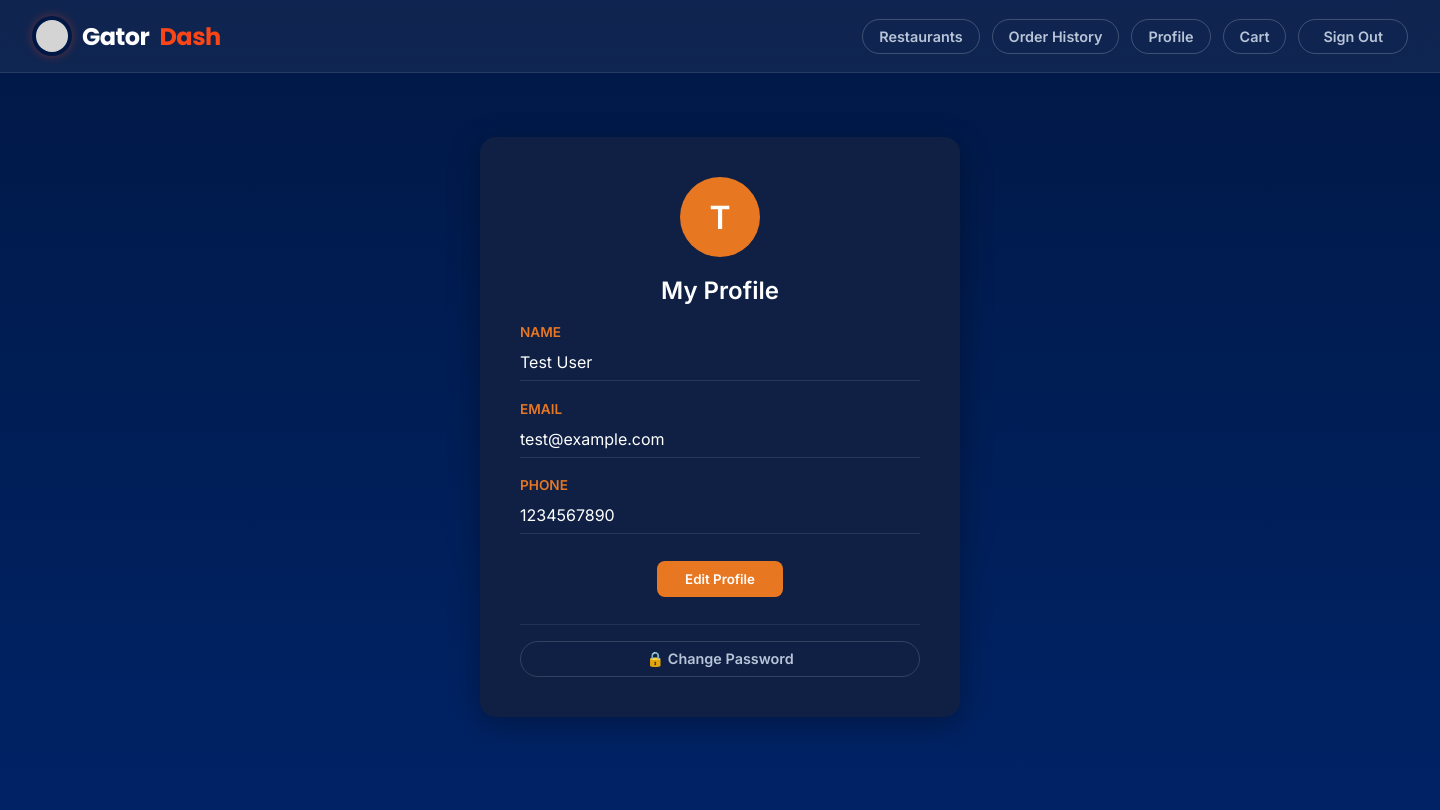
Profile Component › shows validation error for invalid phone
The image size is (1440, 810).
Click the button "Edit Profile" at (720, 579), box [657, 561, 783, 597]
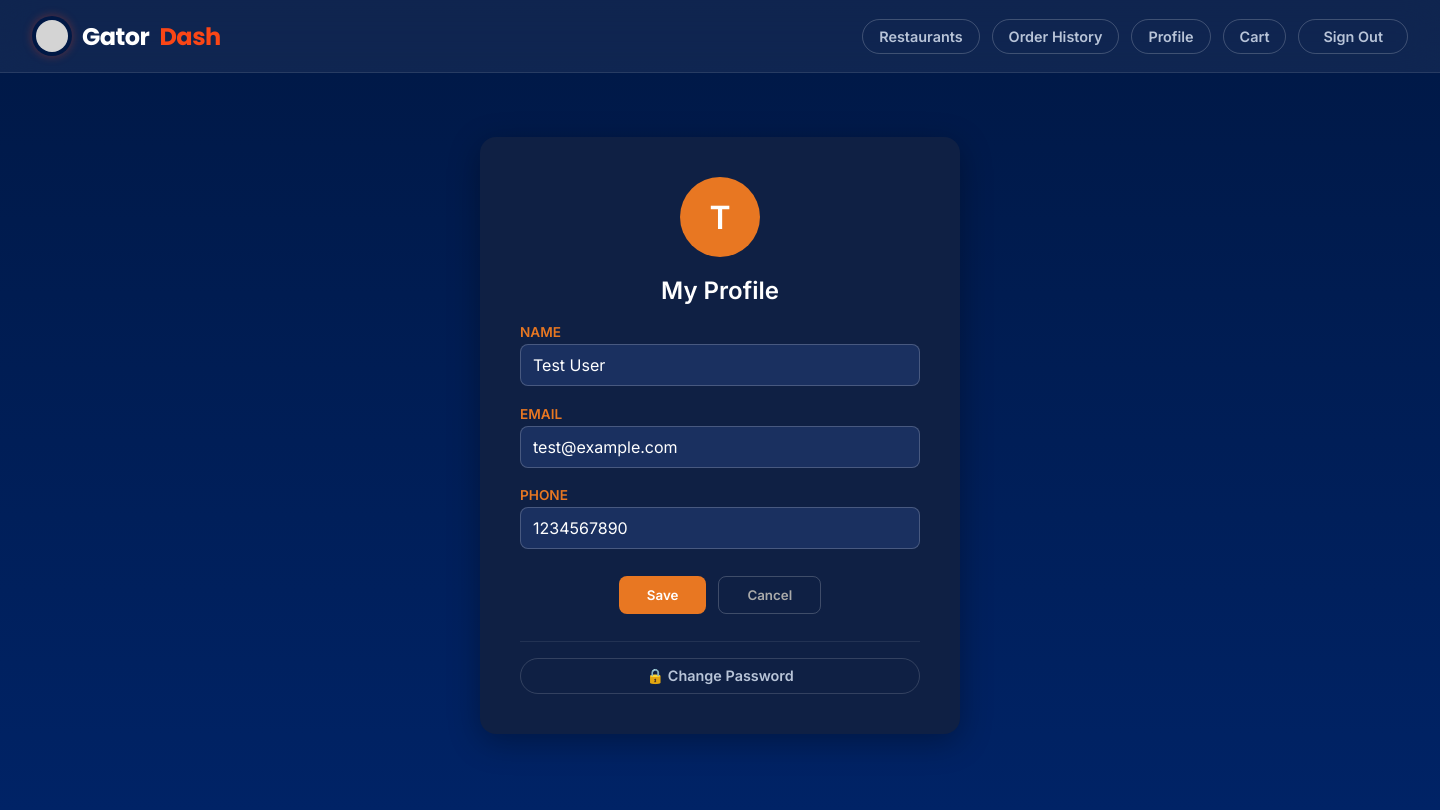
Replace the text in the field below "Phone" with "123" at (720, 528), box [520, 507, 920, 549]
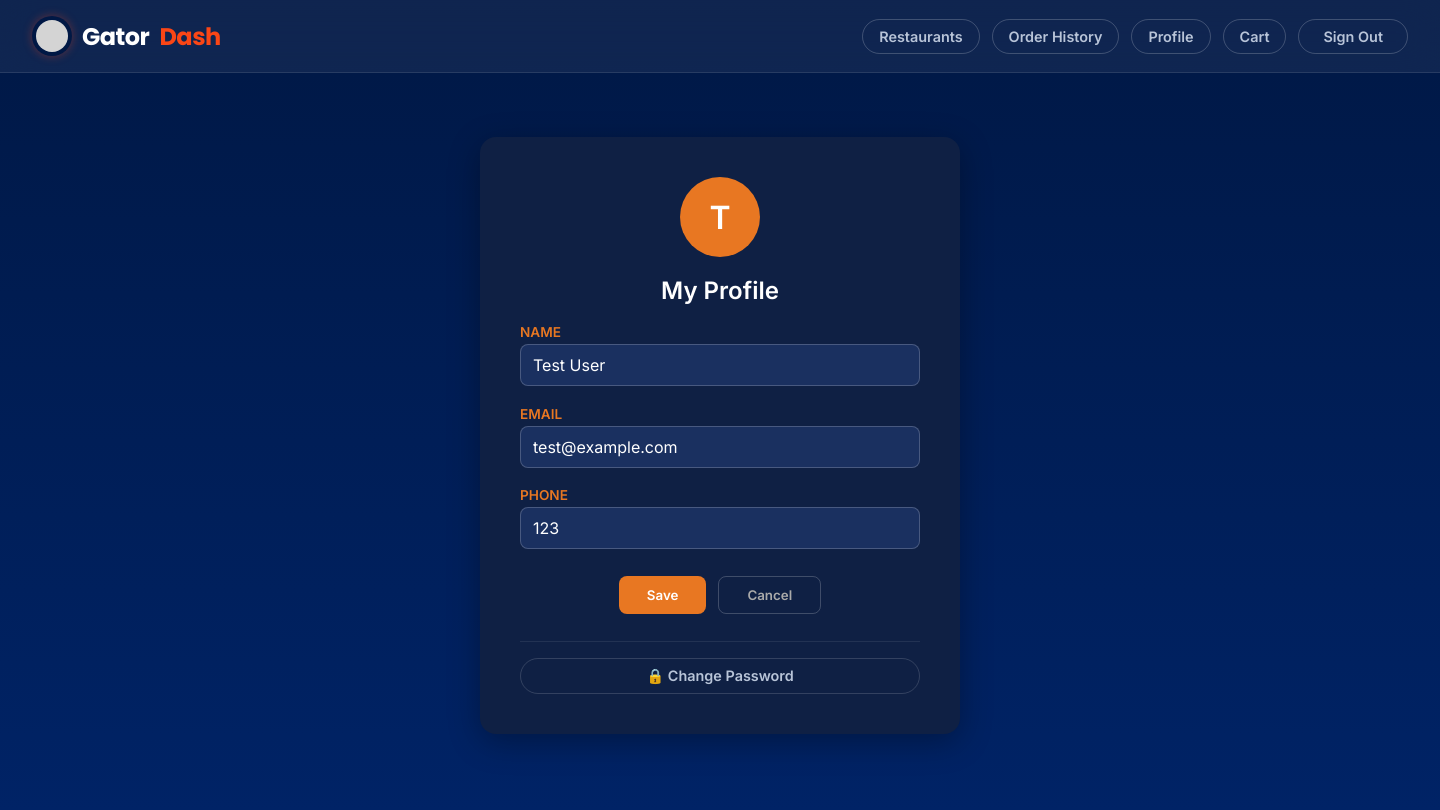
Click the button "Save" at (663, 595), box [619, 576, 706, 614]
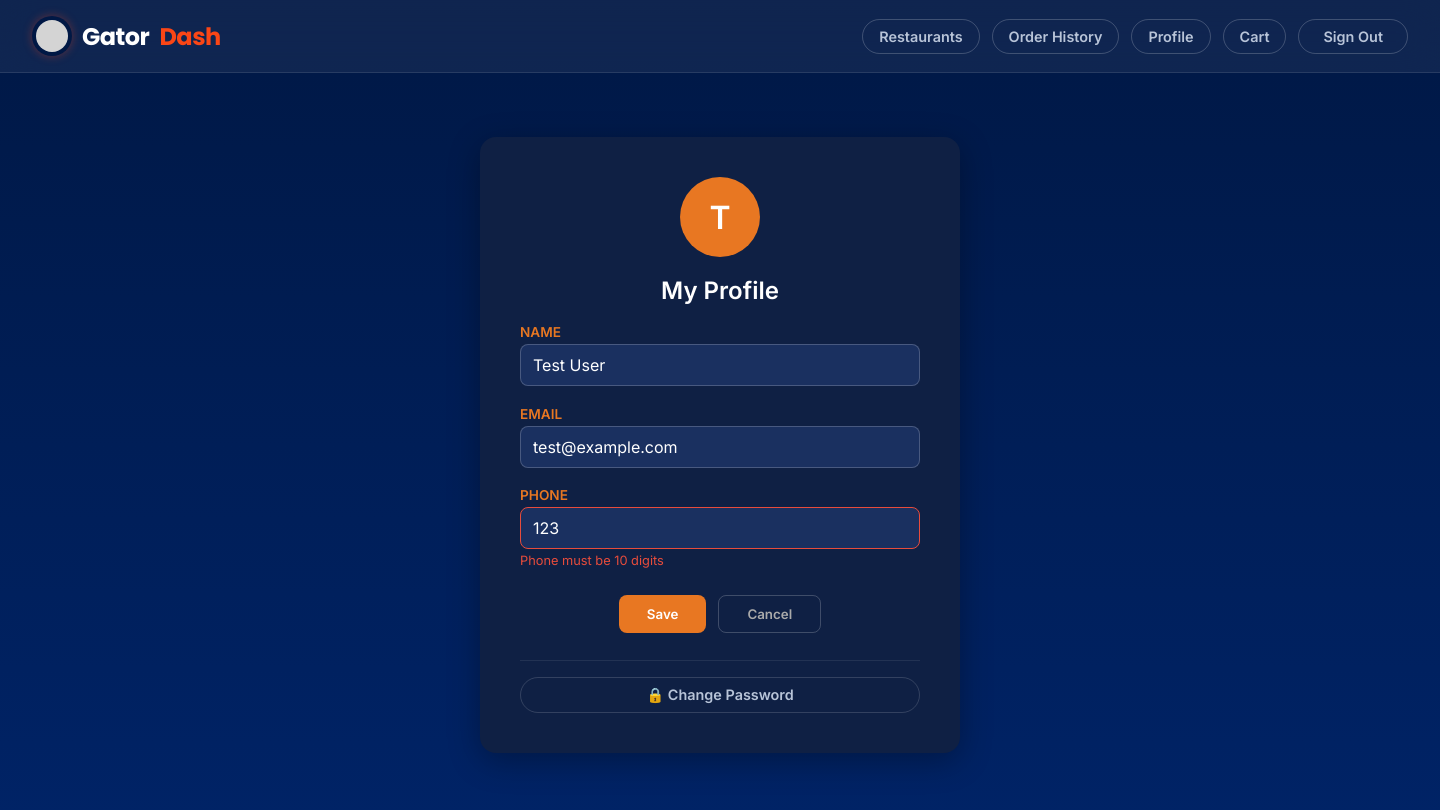
expect the text "Phone must be 10 digits" is shown: met, box [520, 553, 664, 568]
